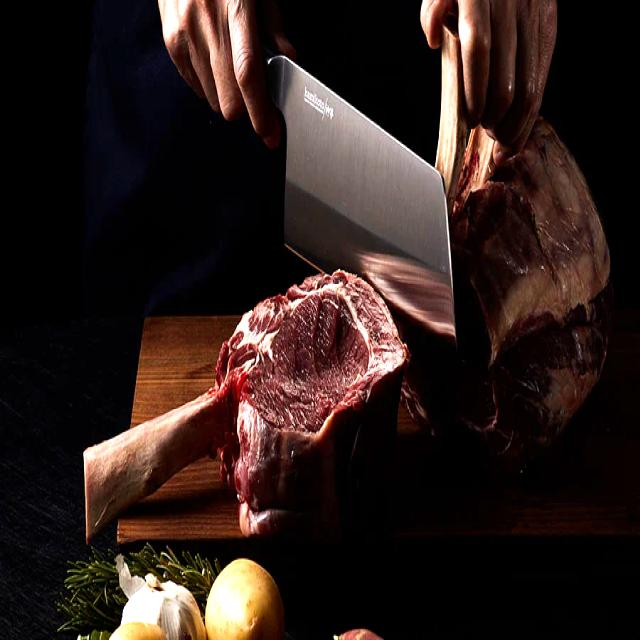cleaver: (153, 0, 464, 351)
